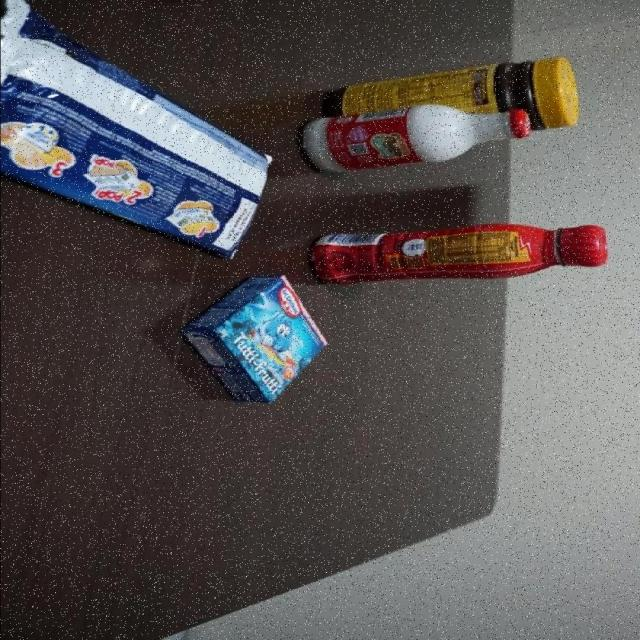ChocolateMilk: (311, 221, 610, 287)
ChocolatePowder: (321, 56, 579, 136)
CoconutMilk: (296, 103, 532, 174)
Gelatine: (176, 274, 329, 405)
Popcorn: (0, 0, 274, 264)
